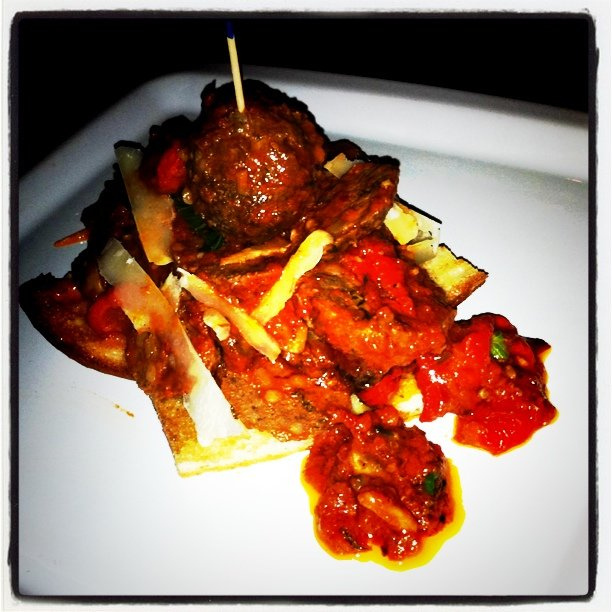meatballs: (179, 84, 331, 262)
